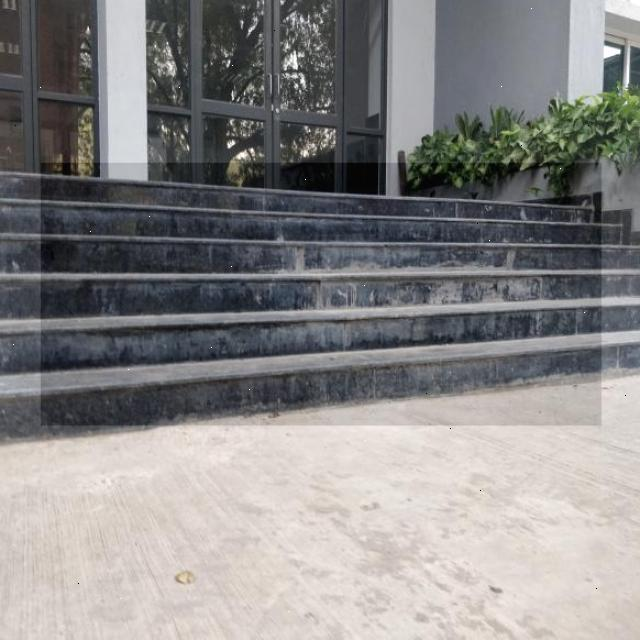stair: (41, 163, 602, 426)
